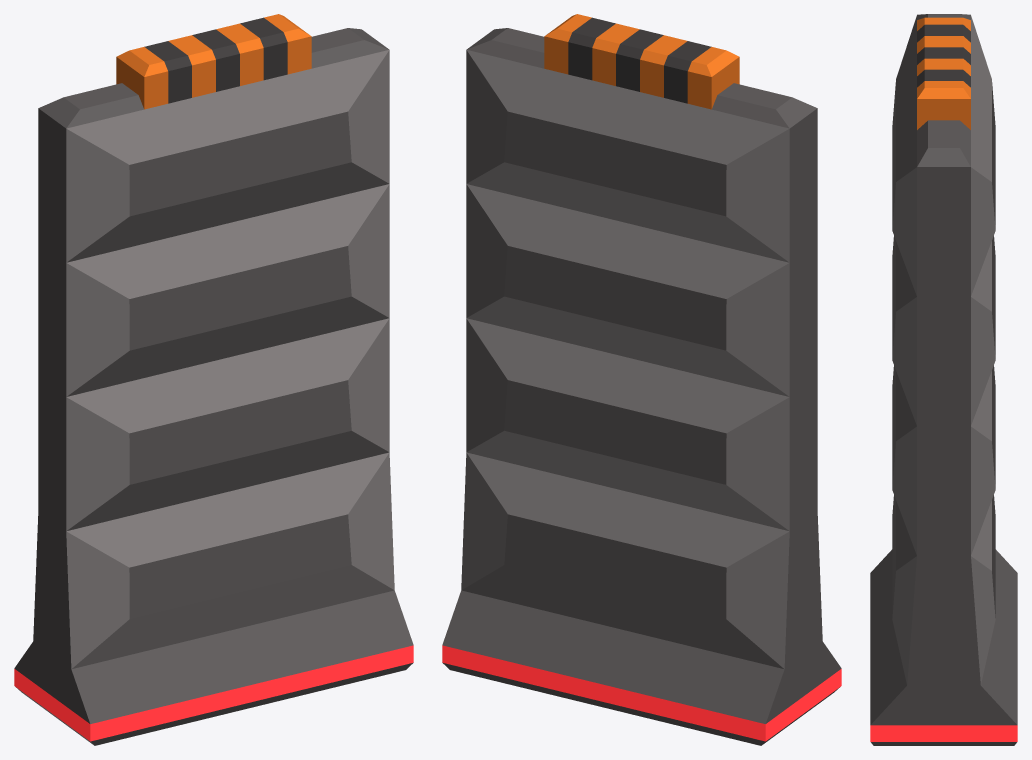
Rendered from scifi_scifi-barrier-large.fbx.
3 views of the same model, side by side, from view 1: azimuth 30°, elevation 25°; view 2: azimuth 150°, elevation 25°; view 3: azimuth 270°, elevation 25° (orthographic). The views are drawn at different scales.
Parts seen in each view (by area): view 1: scifi_scifi_barrier_large; view 2: scifi_scifi_barrier_large; view 3: scifi_scifi_barrier_large.
Part boxes in pixels (x1=…): scifi_scifi_barrier_large: x1=14, y1=14, x2=413, y2=745; scifi_scifi_barrier_large: x1=442, y1=14, x2=841, y2=745; scifi_scifi_barrier_large: x1=870, y1=14, x2=1017, y2=745.
Bounding box in the file's own units: 105 × 200 × 42.99.
